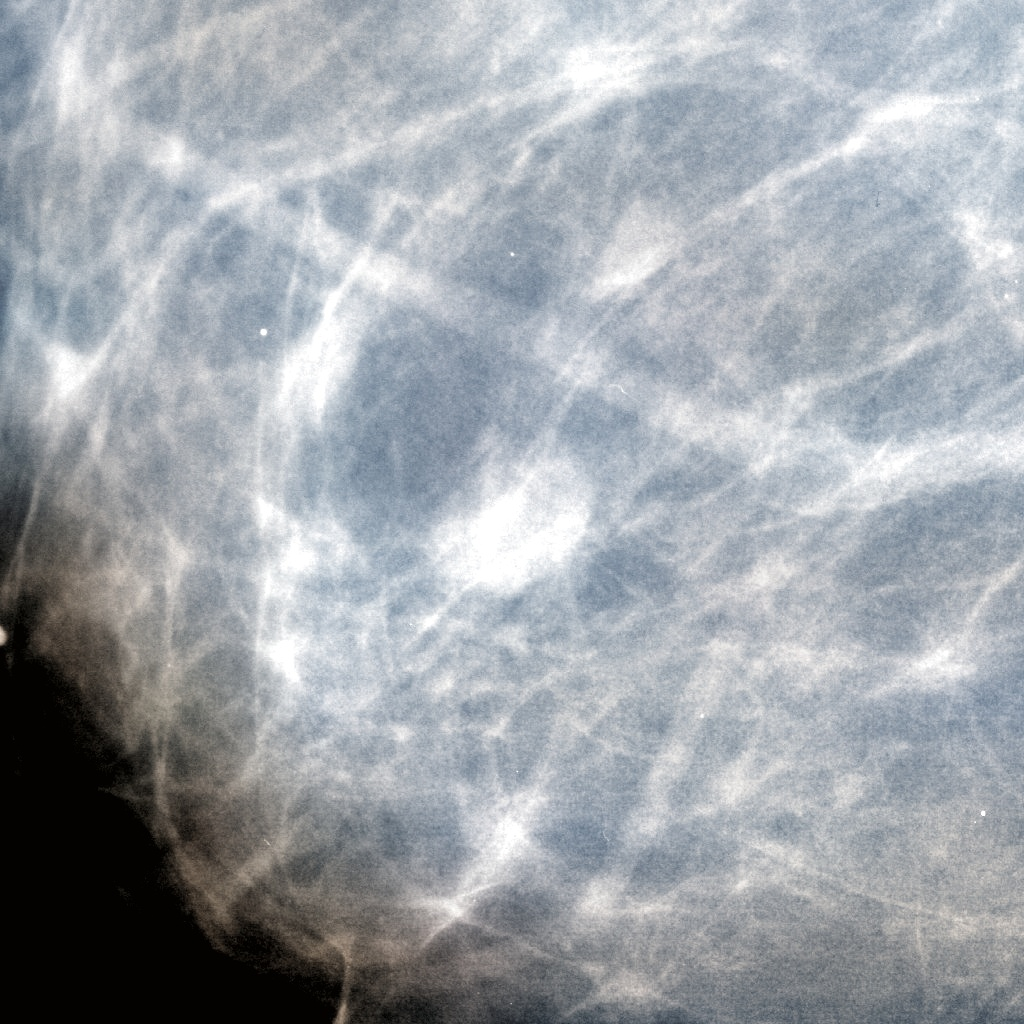tumor: (416, 426, 608, 598)
